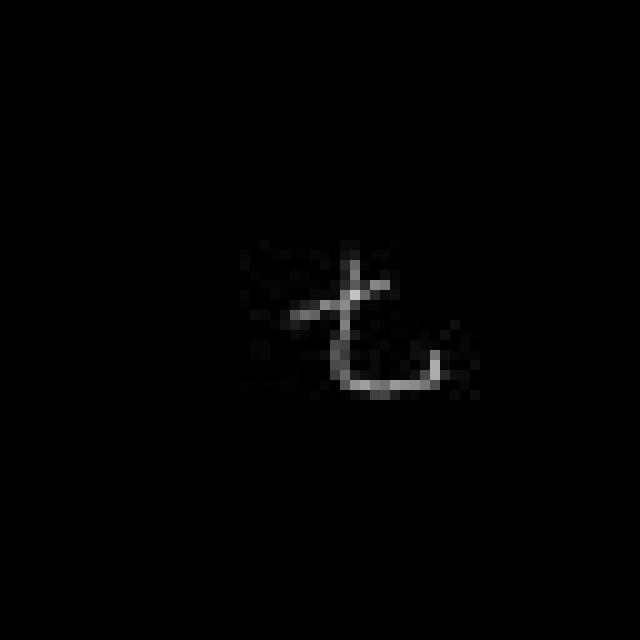7 -seven-: (284, 255, 449, 400)
